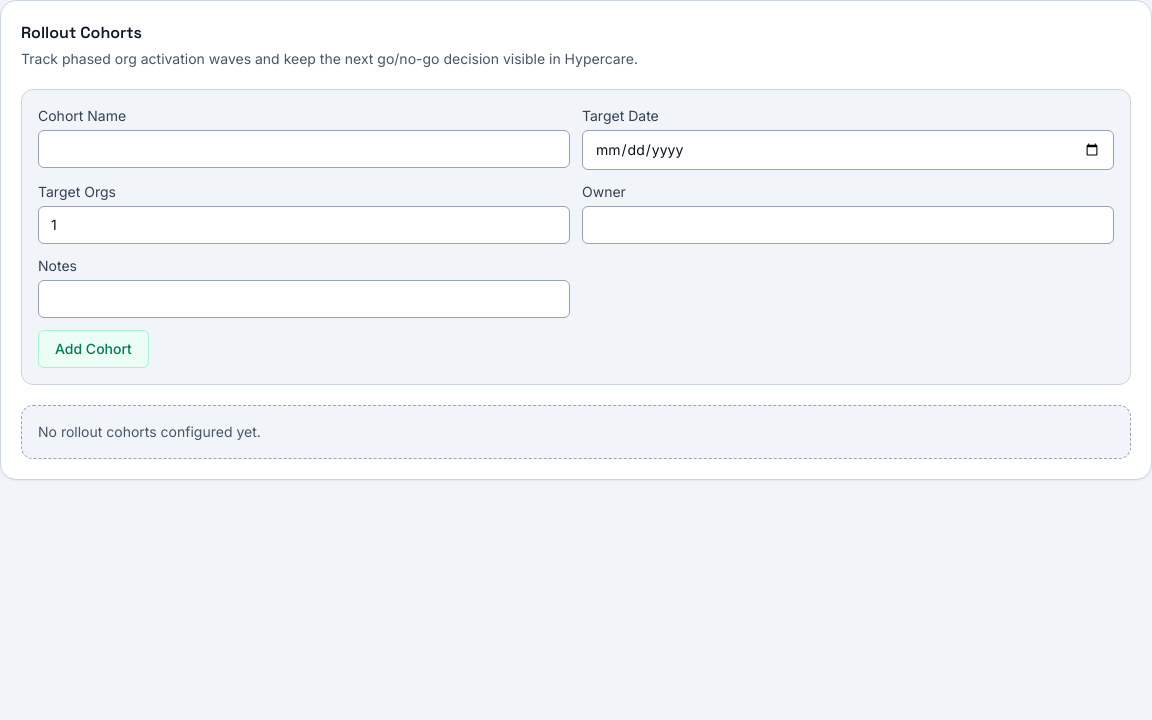
Test: RolloutCohortsPanel › allows hypercare-capable users to add a rollout cohort
expect the text "No rollout cohorts configured yet." is shown: met, box [21, 405, 1131, 459]
In the field labelled "Cohort Name": (304, 149) [38, 130, 570, 168], type "Wave 1 - West"
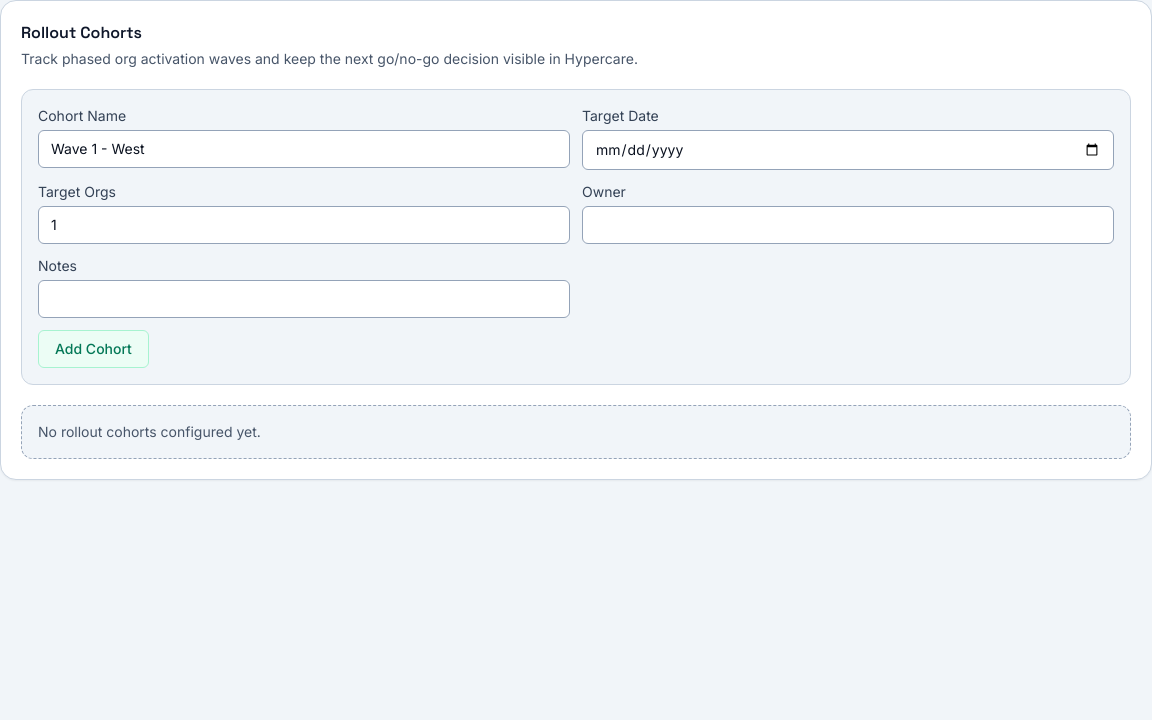
In the date field labelled "Target Date": (848, 150) [582, 130, 1114, 170], type "2026-03-20"
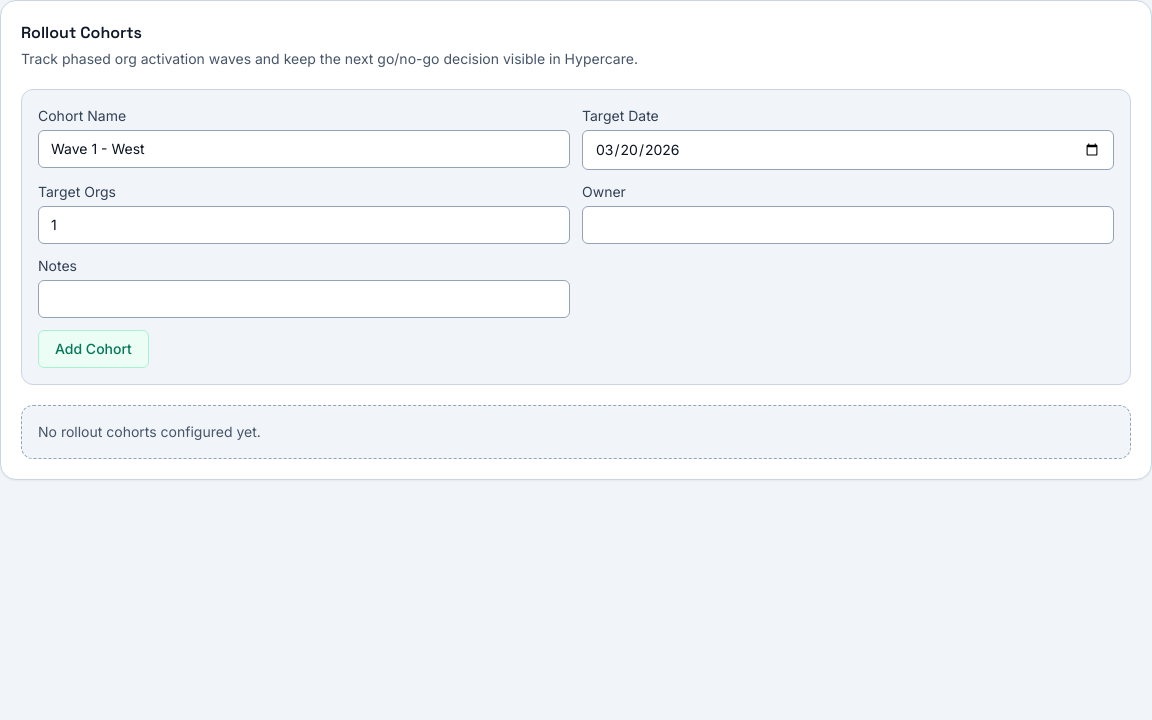
Replace the text in the number field labelled "Target Orgs" with "5": (304, 225) [38, 206, 570, 244]
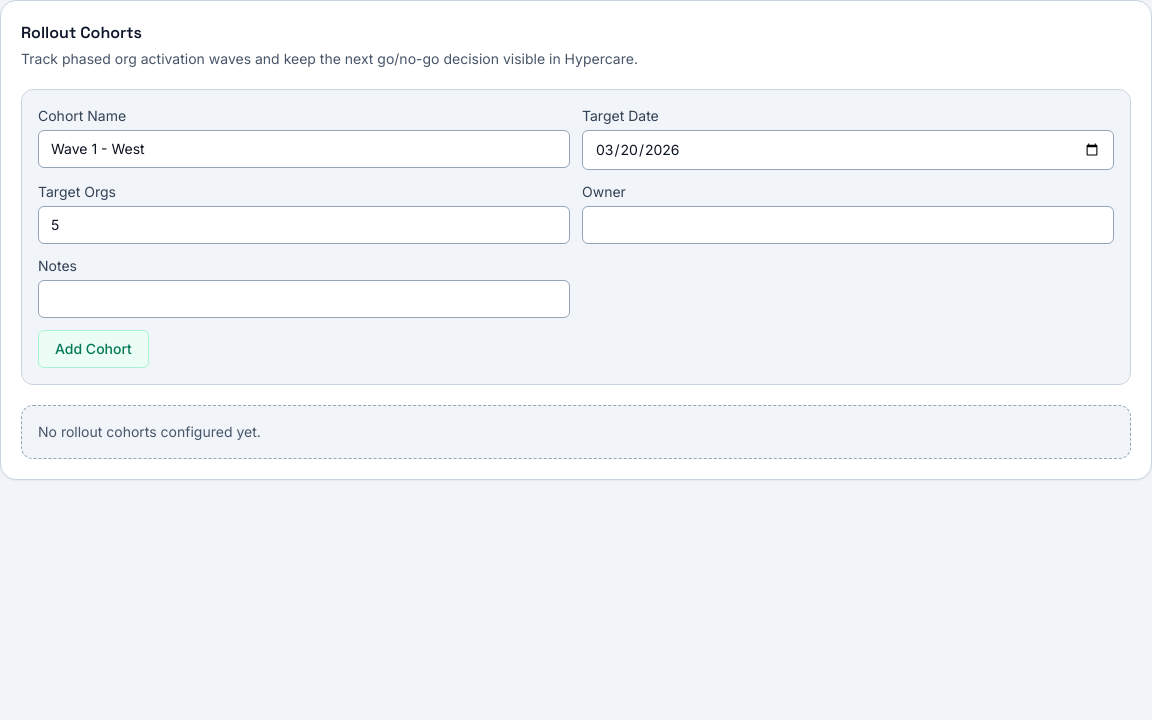
In the field labelled "Owner": (848, 225) [582, 206, 1114, 244], type "Ops Lead"
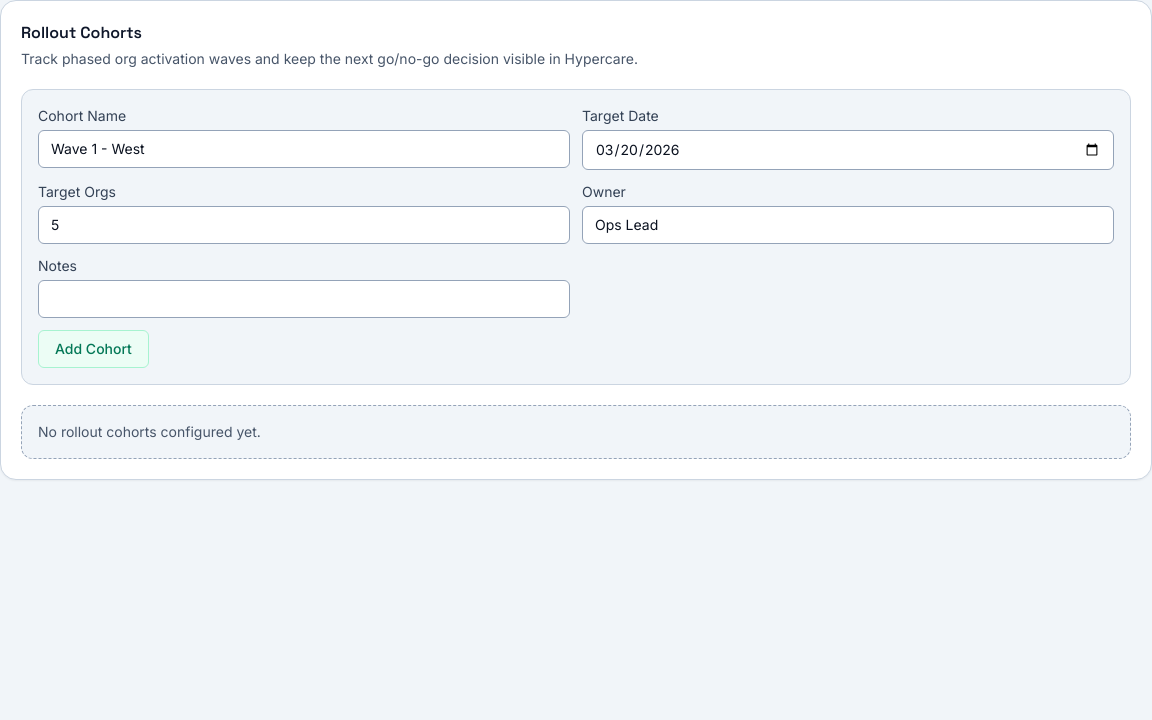
In the field labelled "Notes": (304, 299) [38, 280, 570, 318], type "Pilot launch group"
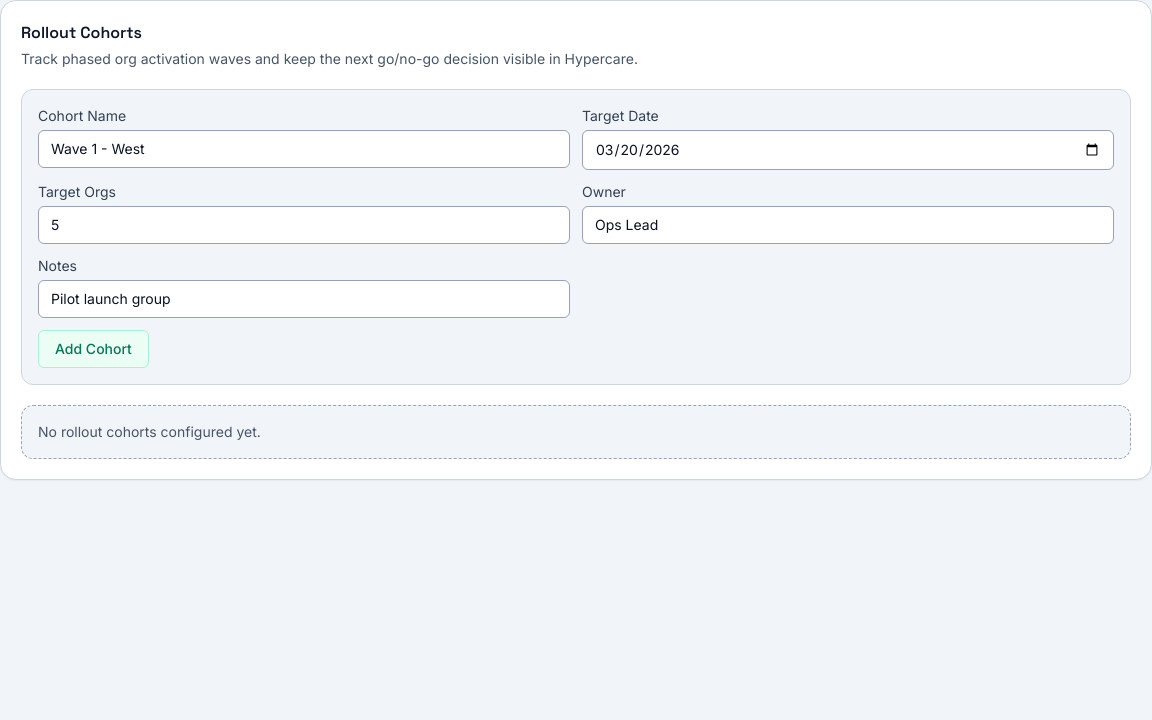
Click the button "Add Cohort": (93, 349) [38, 330, 149, 368]
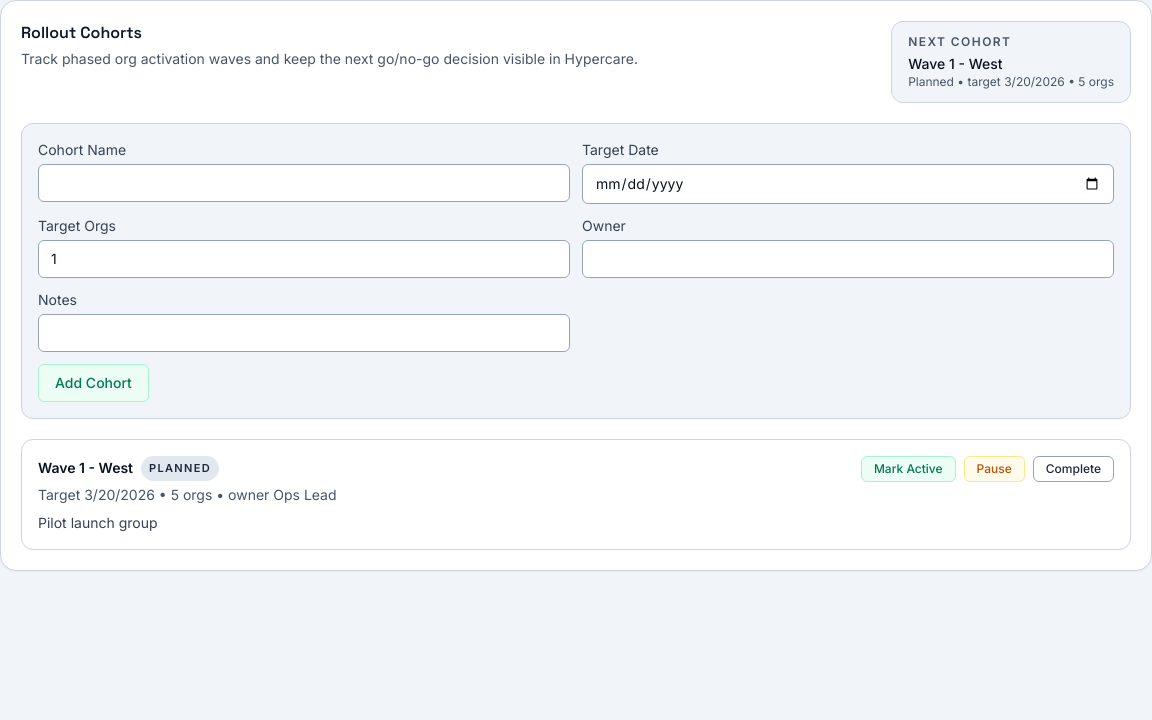
expect the text "Wave 1 - West" below "Next cohort" is shown: met, box [908, 55, 1002, 72]
expect the text "Planned • target 3/20/2026 • 5 orgs" is shown: met, box [908, 74, 1114, 90]
